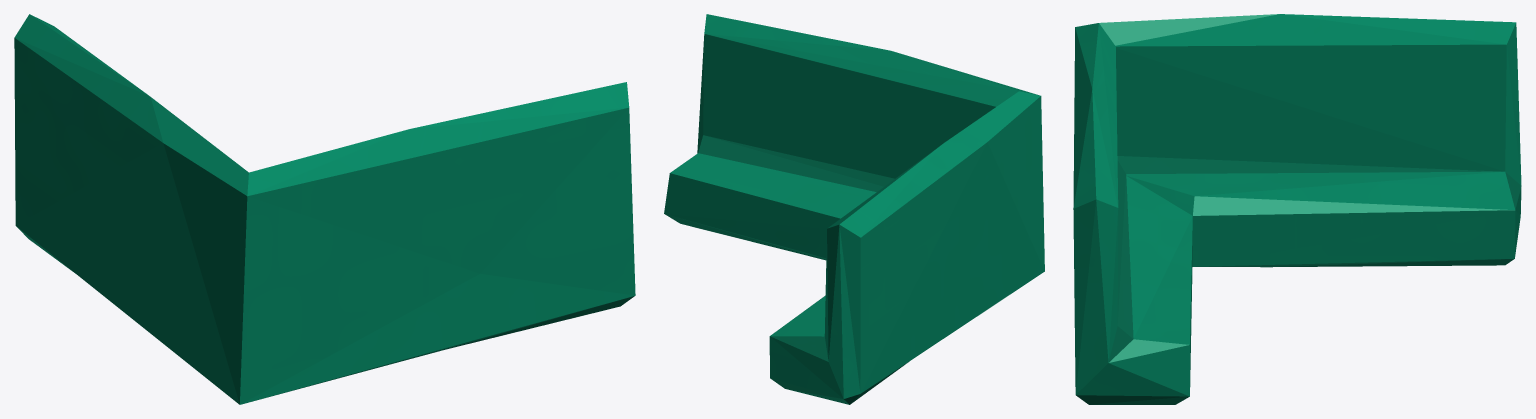
The model's file is ml_couch_remodel.glb.
3 renders of one model, left to right at view 1: azimuth 30°, elevation 25°; view 2: azimuth 150°, elevation 25°; view 3: azimuth 270°, elevation 25°, orthographic. The views are drawn at different scales.
Parts seen in each view (by area): view 1: Cube.002; view 2: Cube.002; view 3: Cube.002.
Part boxes in pixels (x1,y1,x2,y2): Cube.002: [14, 14, 635, 404]; Cube.002: [664, 14, 1044, 404]; Cube.002: [1073, 14, 1521, 404].
Bounding box in the file's own units: 11.46 × 6.15 × 11.44.
Materials: 1 (1 with a texture image).
